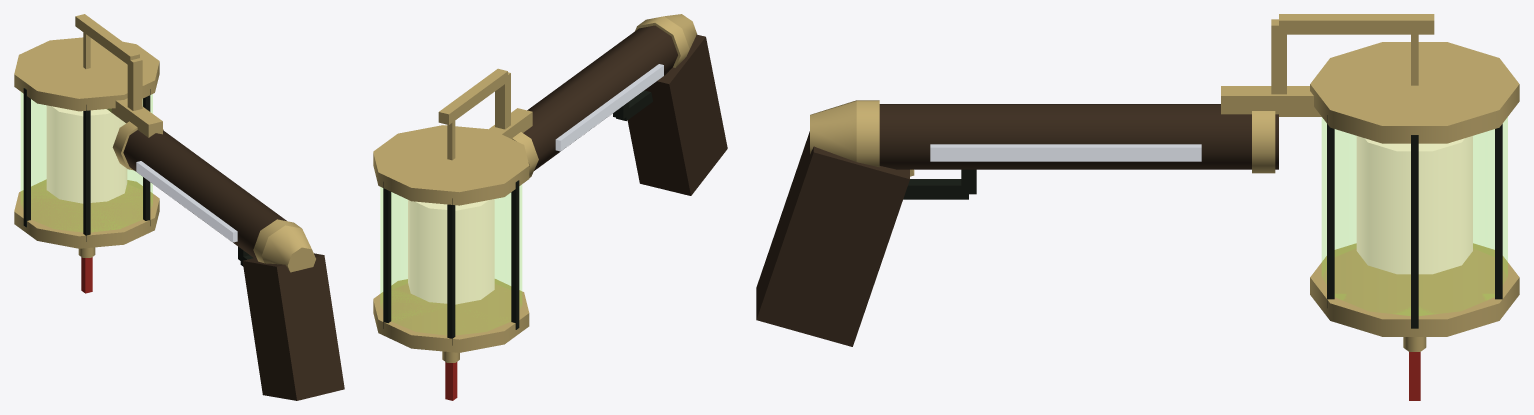
The model's file is BO_SK_Weapon_Lantern_v001.glb.
The picture shows the model from 3 angles, left to right: view 1: azimuth 30°, elevation 25°; view 2: azimuth 150°, elevation 25°; view 3: azimuth 270°, elevation 25°; orthographic projection. The views are drawn at different scales.
Visible parts, largest first — view 1: glowfx_022, body_004, body_017, body_000, body_018, glowfx_023, body_003, glowfx_026, body_010, body_014, body_013, body_008 (+5 smaller); view 2: glowfx_022, body_004, body_017, glowfx_023, body_000, body_018, glowfx_026, body_010, body_014, body_015, body_016, body_002 (+7 smaller); view 3: glowfx_022, body_000, body_004, body_017, glowfx_023, body_018, glowfx_025, body_010, body_008, body_003, body_002, body_011 (+5 smaller).
Boxes of the visible parts, bbox=[...] form: glowfx_022: bbox=[21, 92, 152, 231]; body_004: bbox=[242, 253, 344, 400]; body_017: bbox=[14, 37, 159, 111]; body_000: bbox=[123, 130, 286, 259]; body_018: bbox=[14, 179, 159, 248]; glowfx_023: bbox=[46, 105, 127, 203]; body_003: bbox=[261, 225, 315, 272]; glowfx_026: bbox=[136, 161, 237, 242]; body_010: bbox=[75, 14, 139, 64]; body_014: bbox=[23, 88, 30, 227]; body_013: bbox=[83, 105, 90, 241]; body_008: bbox=[107, 98, 162, 137]; glowfx_022: bbox=[380, 185, 521, 334]; body_004: bbox=[627, 34, 727, 195]; body_017: bbox=[373, 125, 529, 205]; glowfx_023: bbox=[408, 199, 494, 304]; body_000: bbox=[523, 25, 677, 170]; body_018: bbox=[373, 279, 529, 352]; glowfx_026: bbox=[555, 64, 663, 151]; body_010: bbox=[438, 68, 507, 124]; body_014: bbox=[511, 180, 519, 329]; body_015: bbox=[447, 198, 455, 345]; body_016: bbox=[383, 182, 391, 328]; body_002: bbox=[635, 16, 689, 67]; glowfx_022: bbox=[1322, 117, 1507, 315]; body_000: bbox=[879, 104, 1278, 169]; body_004: bbox=[756, 131, 909, 346]; body_017: bbox=[1310, 42, 1519, 143]; glowfx_023: bbox=[1356, 136, 1472, 274]; body_018: bbox=[1310, 243, 1519, 336]; glowfx_025: bbox=[930, 144, 1201, 161]; body_010: bbox=[1279, 14, 1434, 34]; body_008: bbox=[1221, 86, 1321, 116]; body_003: bbox=[810, 100, 856, 161]; body_002: bbox=[856, 100, 879, 167]; body_011: bbox=[1411, 135, 1418, 328].
Bounding box in the file's own units: 0.104 × 0.217 × 0.3936.
